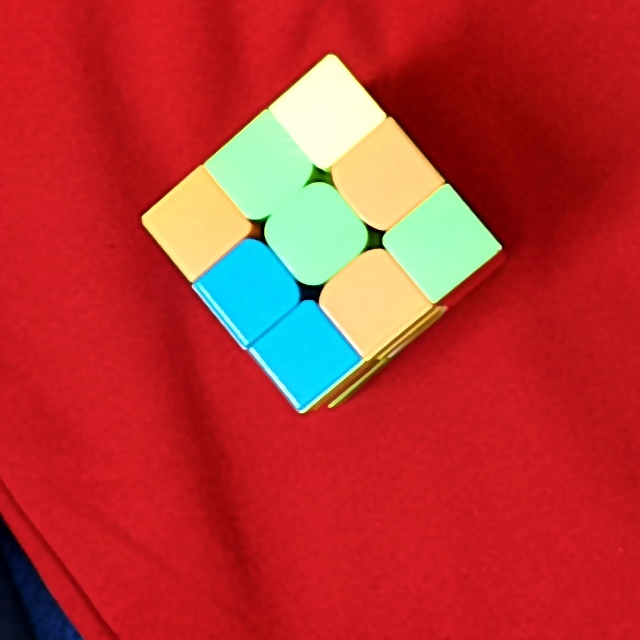tile: (413, 211, 471, 270), (357, 149, 417, 205), (300, 85, 358, 142), (347, 274, 400, 333), (275, 325, 331, 380), (238, 139, 291, 196), (292, 210, 346, 263), (223, 263, 275, 317), (172, 197, 220, 250)
